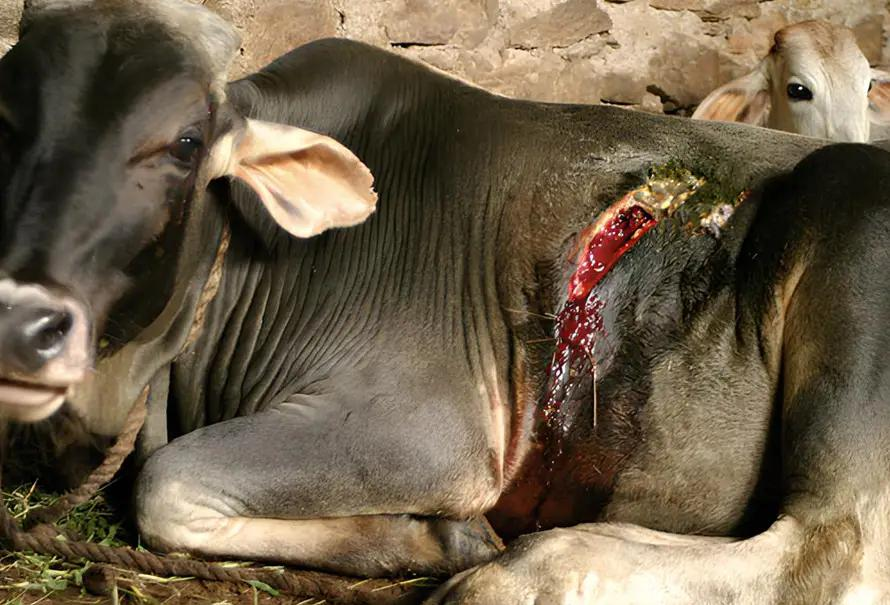cut: (445, 141, 792, 459)
